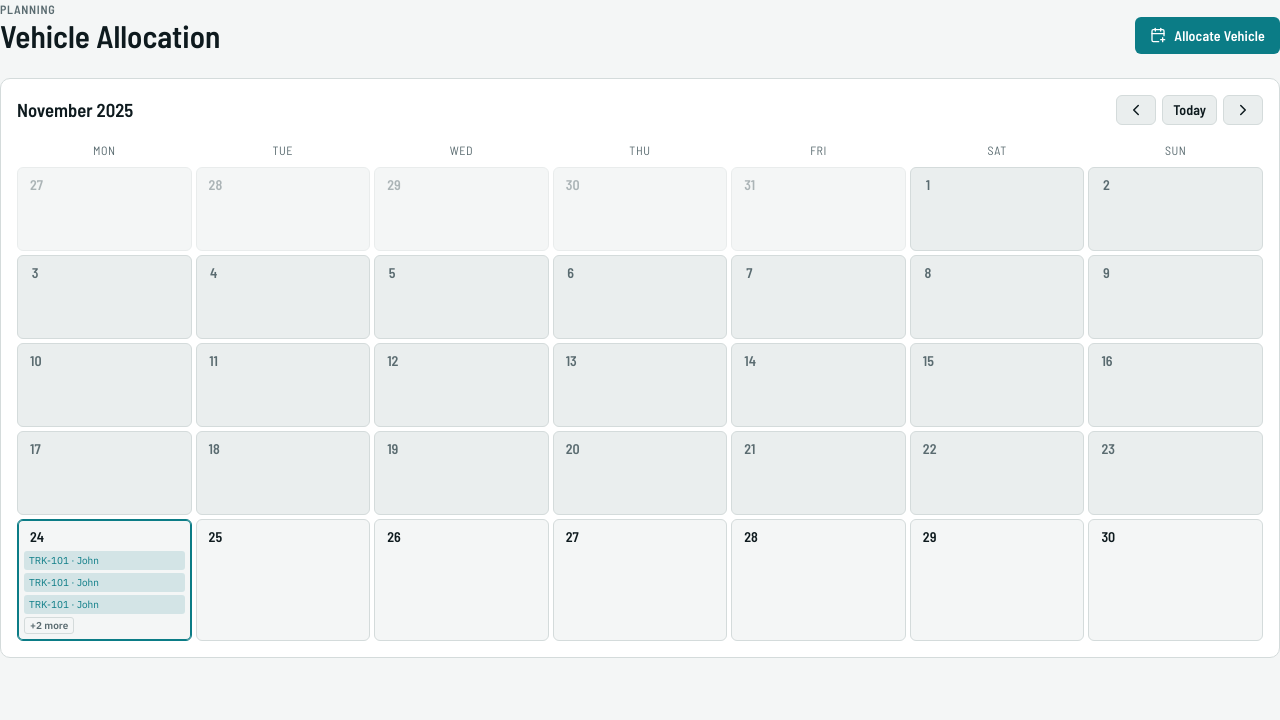
Test: AllocationPage › opens the day view from "+N more" and edits an allocation from it
This screenshot has width=1280, height=720.
Expected: the button "Allocate Vehicle" is shown, [1135,17,1279,54]
Click the button "+2 more".
click(49, 625)  # box [24,617,74,634]
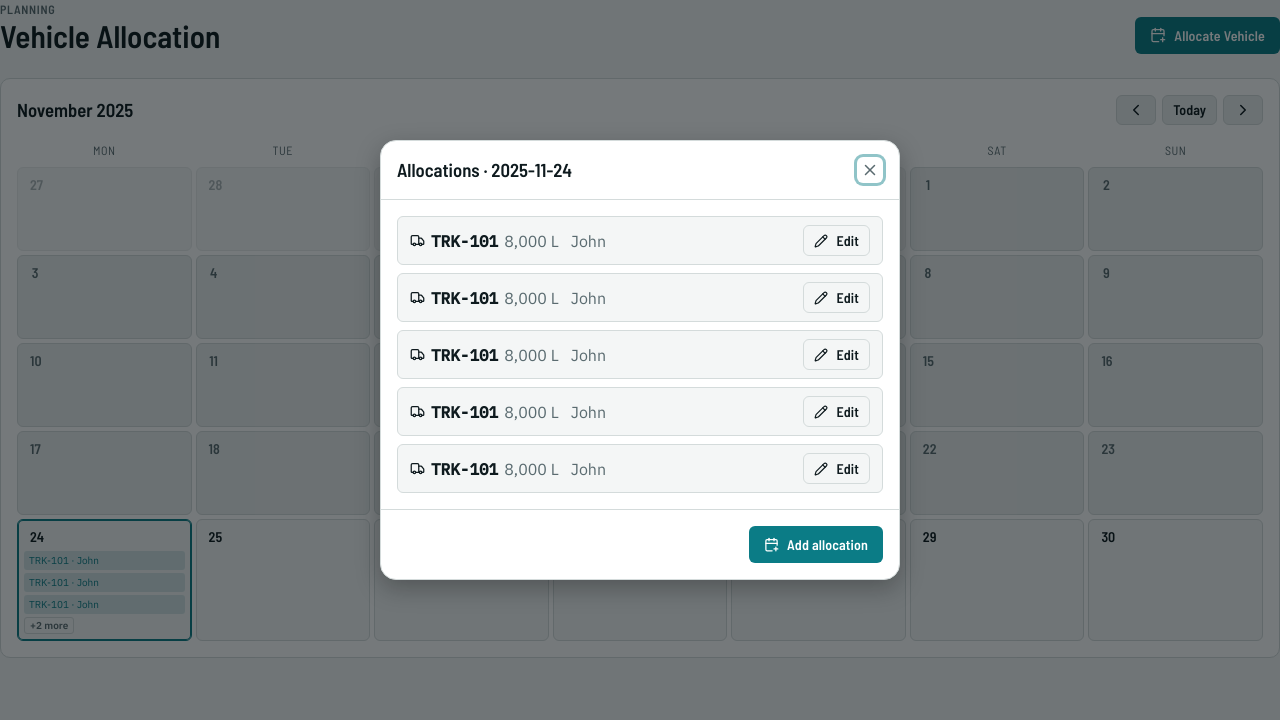
Result: the number of buttons "Edit" is 5
Result: the button "Add allocation" is shown at [749,526,883,563]
Click the 1st button "Edit".
click(837, 240)  # box [803,225,870,256]
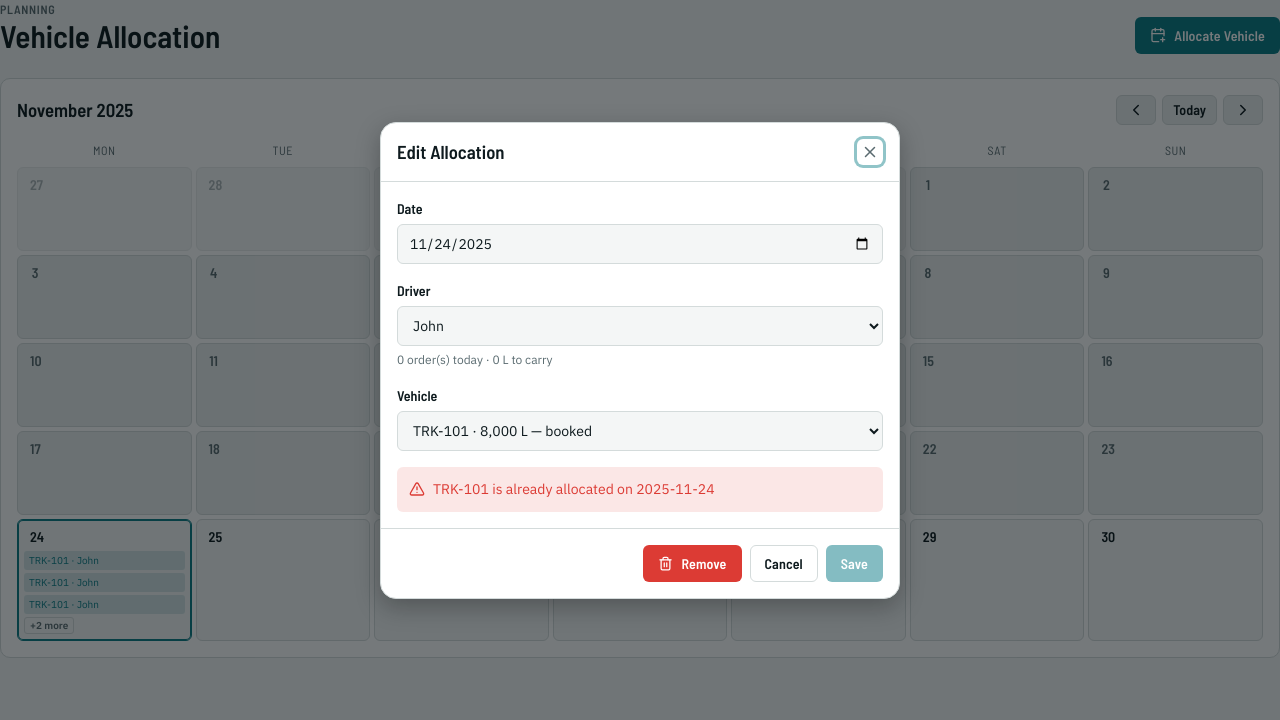
Result: the dialog "Edit Allocation" is shown at [380,122,900,598]
